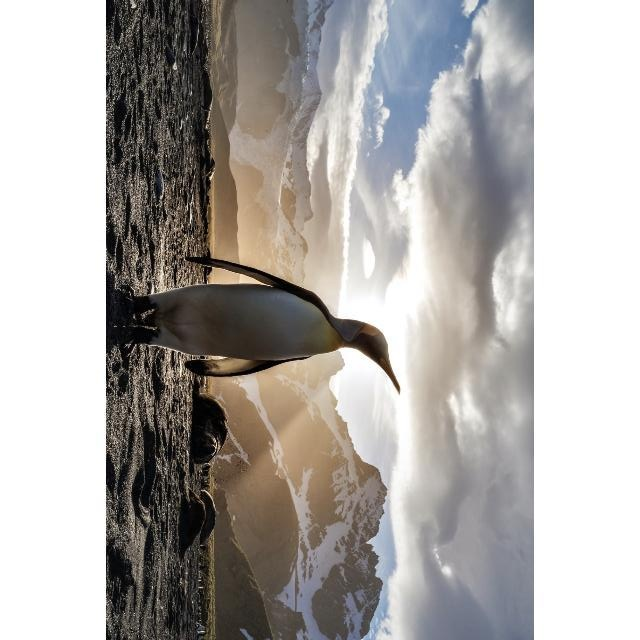penguin: (114, 256, 402, 396)
